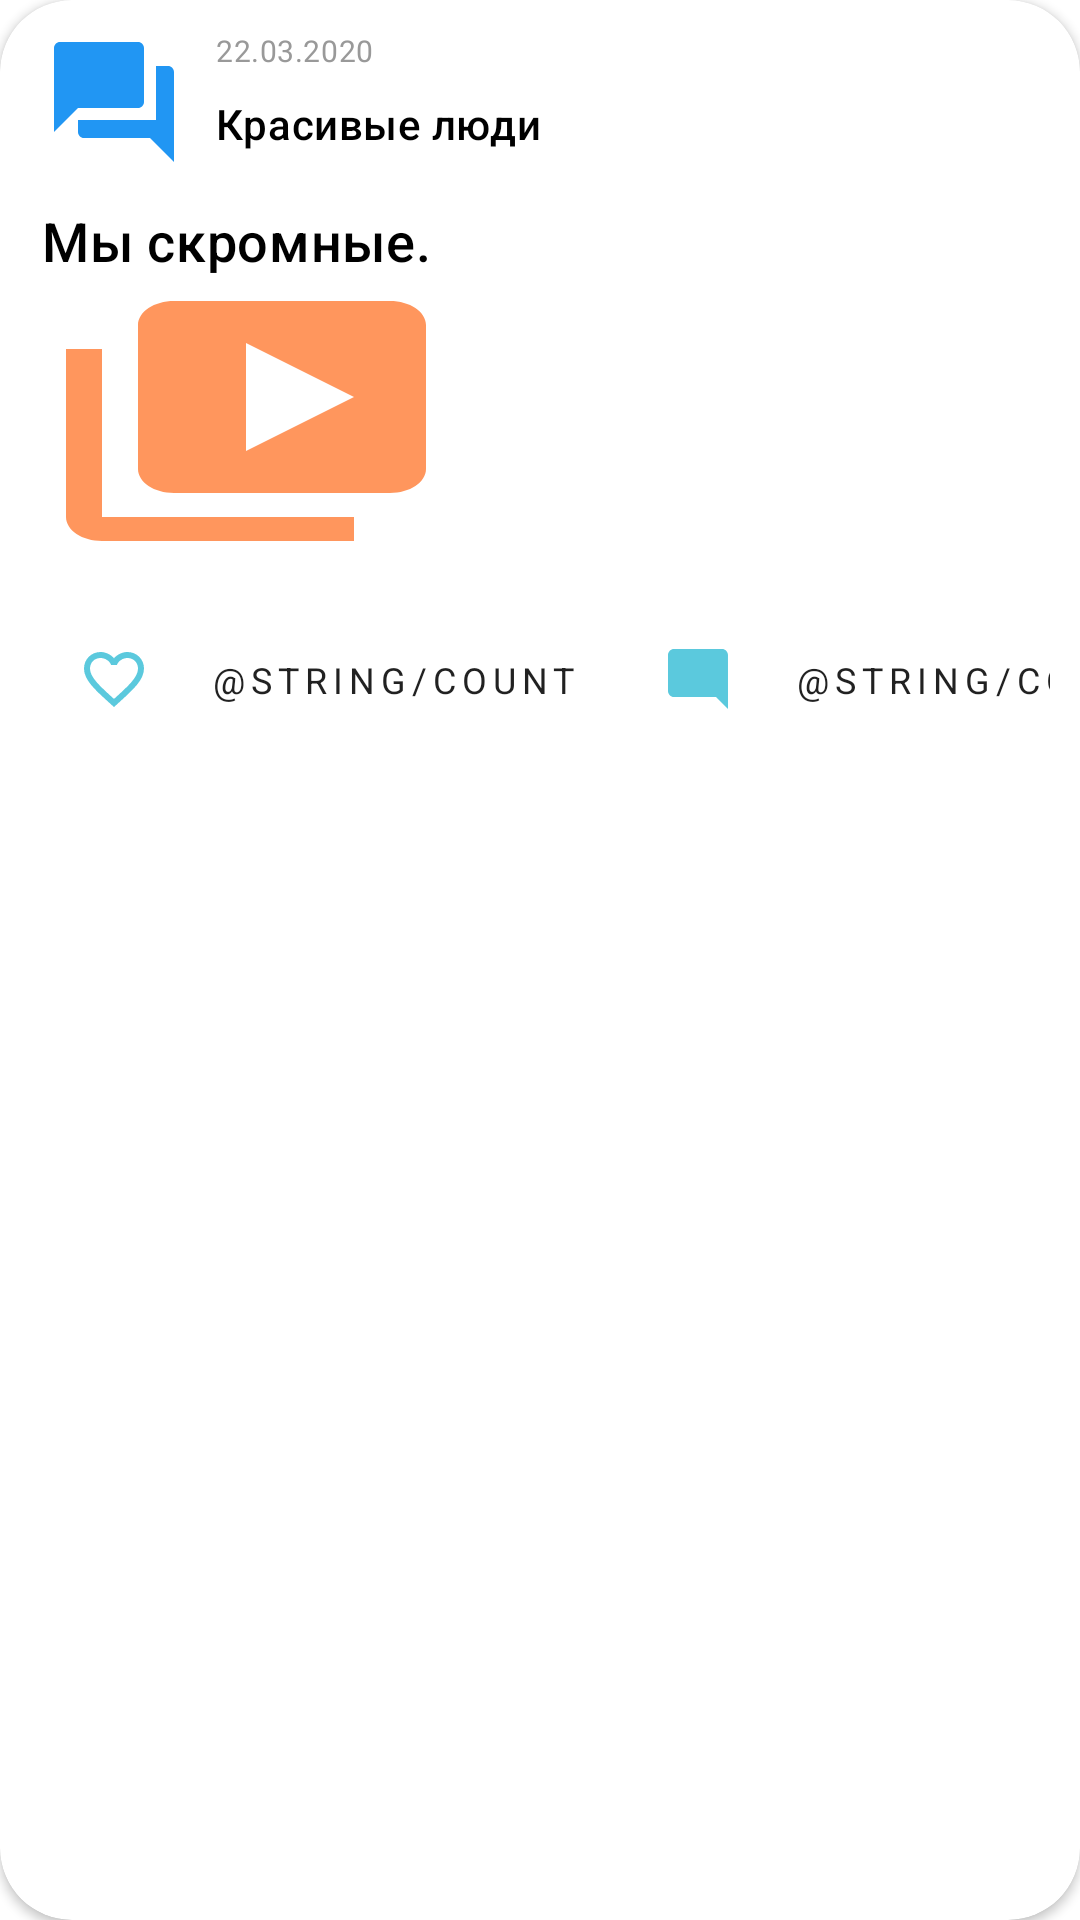

Where icons sit on this 1080w x 1920h app screen, as (x1, y1, x2, y2):
favorite border: (84, 652, 144, 707)
question answer: (54, 42, 174, 162)
video library: (66, 301, 426, 541)
